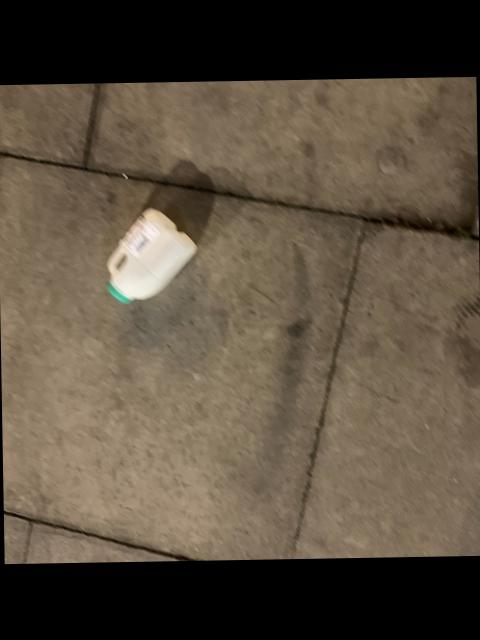plastic: (105, 206, 194, 301)
